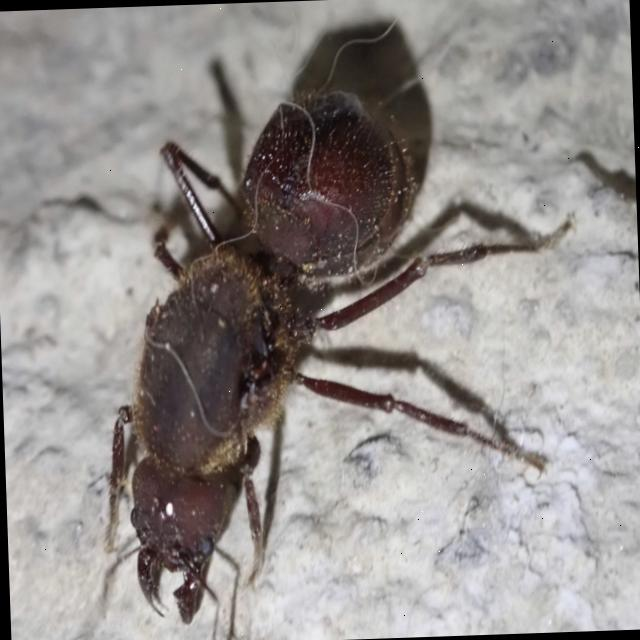Alive-Female-Dealate: (76, 73, 586, 626)
